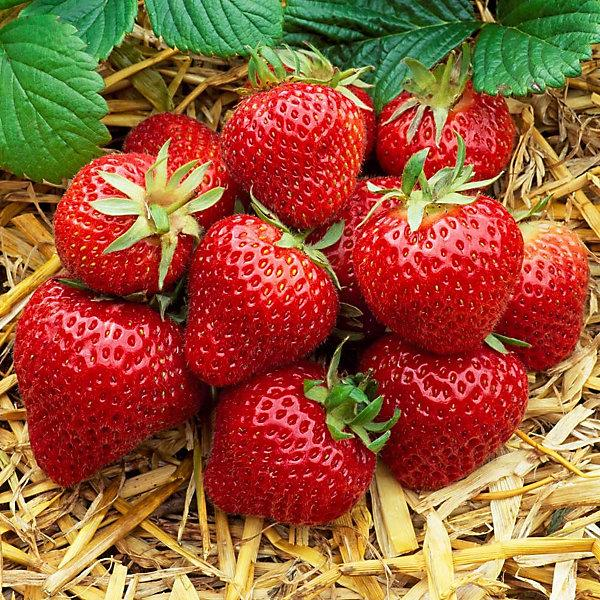strawberry: (11, 275, 208, 496), (189, 358, 387, 535), (353, 164, 528, 360), (358, 334, 544, 498), (176, 209, 343, 380), (217, 51, 364, 217), (56, 148, 197, 295)
